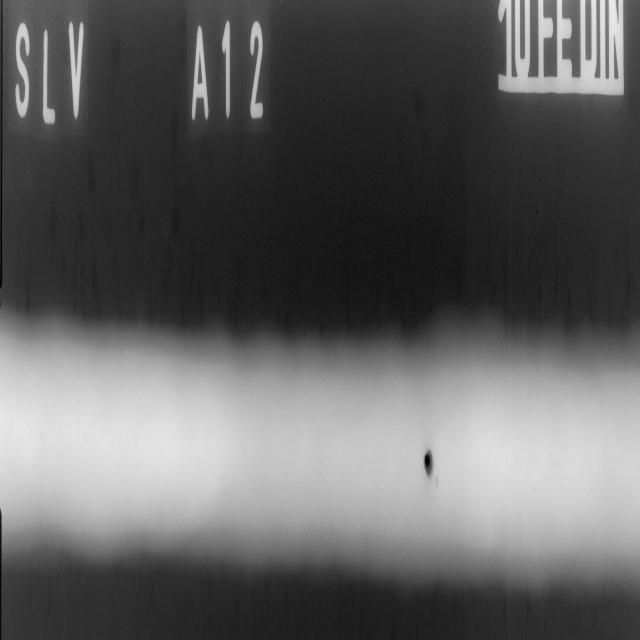PO: (422, 437, 434, 483)
